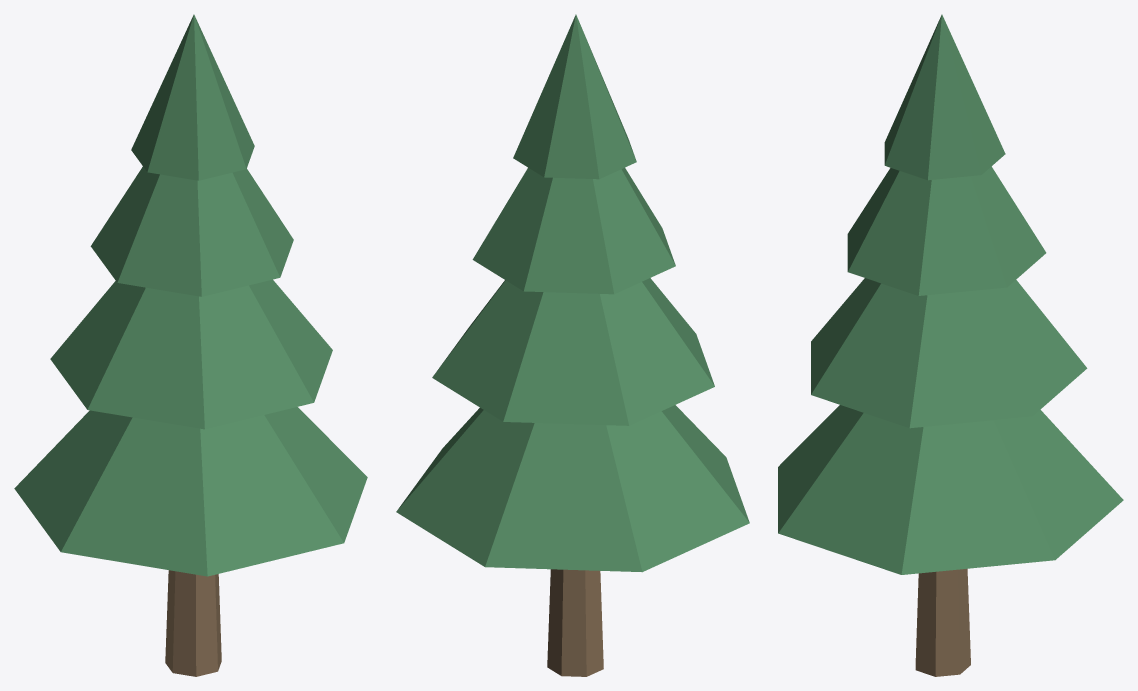
File: pine_tree.glb
3 views of the same model, side by side, from view 1: azimuth 30°, elevation 25°; view 2: azimuth 150°, elevation 25°; view 3: azimuth 270°, elevation 25° (orthographic).
Visible parts, largest first — view 1: pine_tree; view 2: pine_tree; view 3: pine_tree.
Part boxes in pixels (x1,y1,x2,y2): pine_tree: (14, 14, 367, 676); pine_tree: (396, 14, 749, 676); pine_tree: (778, 14, 1123, 676).
Bounding box in the file's own units: 3.9 × 7.9 × 3.8.
